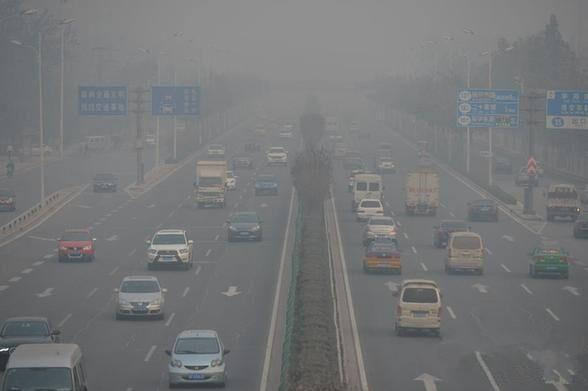bus: (406, 166, 441, 215), (544, 181, 582, 222), (197, 156, 228, 206)
car: (5, 339, 88, 391), (165, 328, 230, 389), (1, 314, 63, 377), (393, 277, 443, 339), (114, 274, 167, 320), (145, 227, 195, 272), (445, 230, 487, 276), (527, 243, 571, 281), (362, 237, 404, 275), (56, 227, 98, 263), (352, 172, 385, 212), (432, 220, 474, 251), (225, 210, 264, 242), (362, 215, 400, 246), (465, 196, 498, 223), (348, 168, 375, 195), (355, 197, 385, 221), (252, 173, 279, 198), (93, 168, 119, 193), (264, 145, 289, 168), (213, 167, 239, 189), (214, 169, 239, 190), (573, 205, 588, 239), (516, 165, 539, 187), (81, 134, 109, 151), (341, 150, 364, 170), (230, 149, 253, 169), (21, 143, 53, 157), (492, 154, 513, 174), (204, 141, 226, 160), (1, 187, 17, 212), (377, 155, 397, 174), (140, 131, 157, 148), (332, 141, 348, 158), (243, 136, 260, 151), (279, 127, 293, 140), (172, 120, 187, 132), (254, 123, 266, 137)
